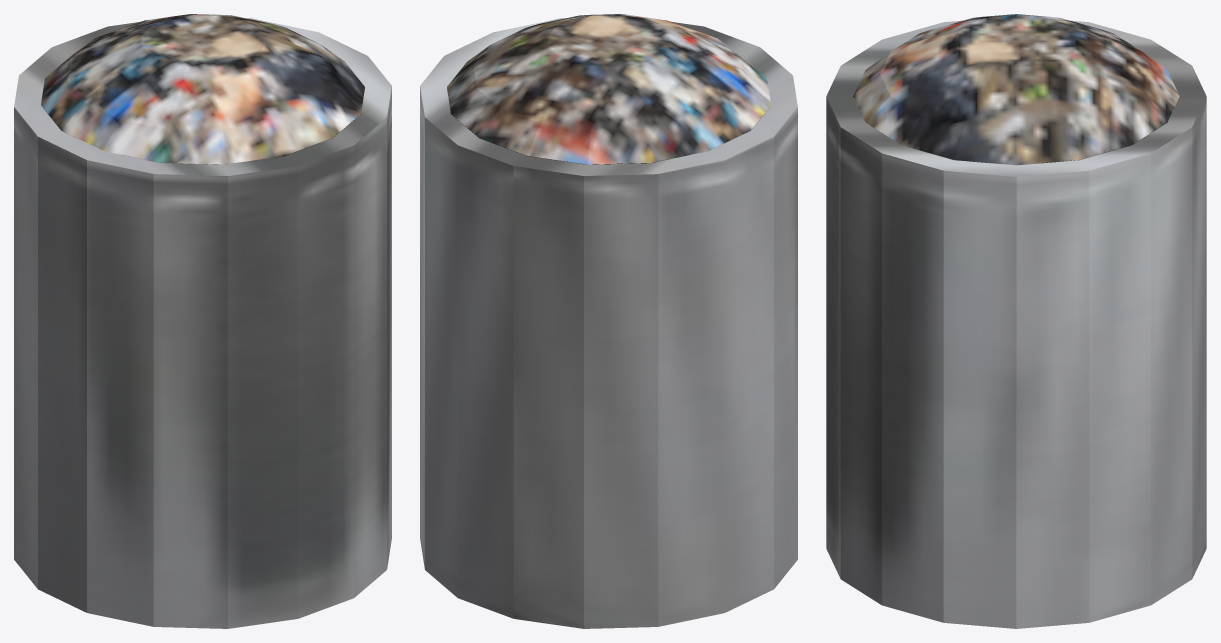
File: TrashCan.fbx
3 renders of one model, left to right at view 1: azimuth 30°, elevation 25°; view 2: azimuth 150°, elevation 25°; view 3: azimuth 270°, elevation 25°, orthographic.
Visible parts, largest first — view 1: TrashCan; view 2: TrashCan; view 3: TrashCan.
Part boxes in pixels (x1=…): TrashCan: x1=14, y1=14, x2=391, y2=628; TrashCan: x1=420, y1=14, x2=797, y2=628; TrashCan: x1=826, y1=14, x2=1206, y2=628.
Size of the model in its own units: 106 by 156 by 106.
